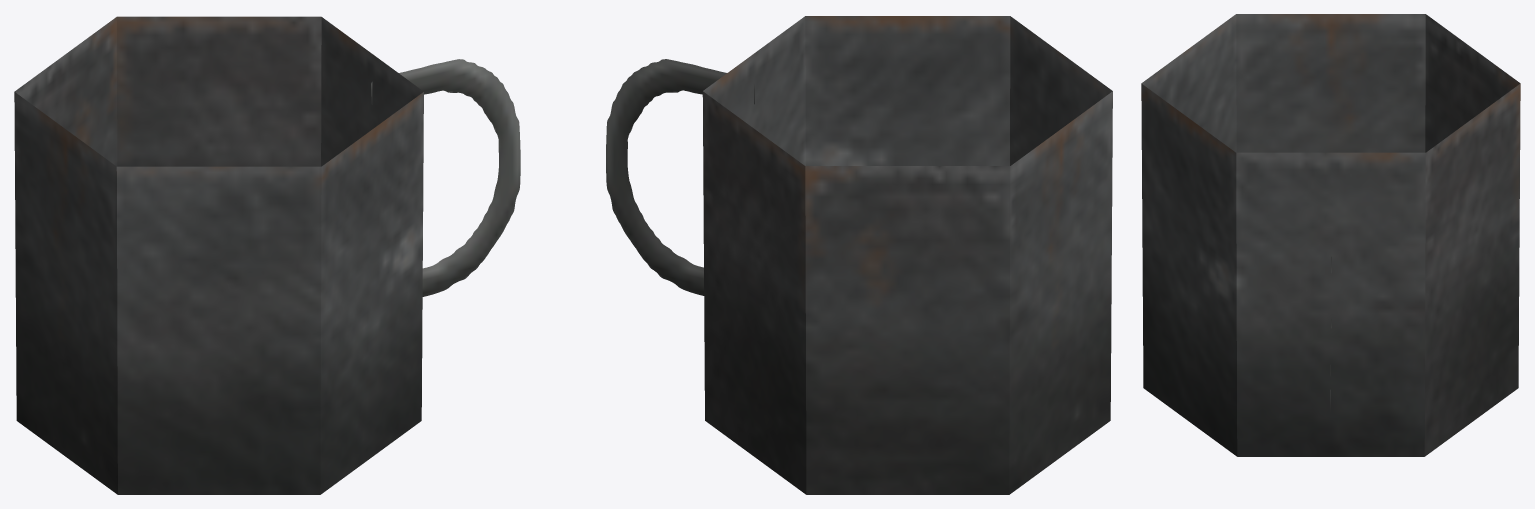
The model's file is Cup.fbx.
3 renders of one model, left to right at view 1: azimuth 30°, elevation 25°; view 2: azimuth 150°, elevation 25°; view 3: azimuth 270°, elevation 25°, orthographic. The views are drawn at different scales.
Visible parts, largest first — view 1: Cup; view 2: Cup; view 3: Cup.
Boxes of the visible parts, bbox=[...] form: Cup: bbox=[14, 16, 520, 494]; Cup: bbox=[606, 16, 1112, 494]; Cup: bbox=[1141, 14, 1520, 456].
Bounding box in the file's own units: 15.85 × 10.31 × 11.63.
